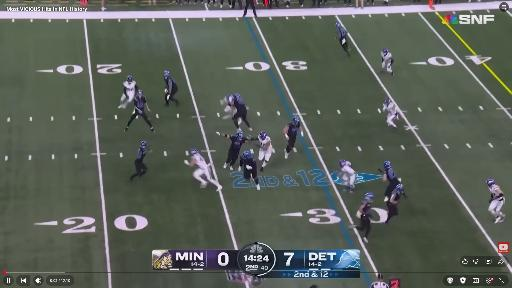Helmet: (365, 191, 375, 203), (258, 131, 268, 140), (487, 179, 496, 187), (384, 160, 392, 169), (396, 184, 405, 192), (243, 152, 251, 161), (237, 132, 244, 142), (291, 117, 299, 125), (385, 98, 392, 107), (339, 159, 346, 168), (141, 141, 148, 149), (138, 90, 145, 97), (127, 76, 133, 84), (383, 48, 389, 56), (165, 71, 171, 78), (335, 21, 341, 27), (191, 150, 198, 155), (234, 94, 242, 98)
Jersey: (340, 162, 356, 186), (258, 135, 272, 161), (230, 135, 247, 151), (489, 184, 503, 201), (240, 157, 257, 171), (192, 154, 207, 169), (386, 168, 399, 184), (233, 94, 246, 110), (134, 95, 146, 111), (124, 81, 136, 97), (258, 136, 271, 150), (383, 102, 397, 115), (288, 122, 300, 137), (342, 162, 355, 175), (362, 200, 371, 218), (165, 76, 175, 91), (136, 148, 146, 162), (390, 189, 401, 201), (381, 52, 392, 63), (337, 28, 346, 39)
Player: (184, 149, 221, 190), (125, 90, 154, 132), (217, 132, 249, 170), (350, 193, 373, 242), (229, 94, 252, 131), (283, 117, 303, 158), (239, 151, 260, 190), (487, 179, 505, 223), (385, 184, 404, 224), (383, 161, 400, 201), (130, 141, 147, 180), (119, 76, 138, 108), (339, 160, 356, 193), (258, 132, 272, 171), (164, 71, 178, 106), (383, 98, 398, 130), (336, 22, 350, 56), (221, 96, 236, 119), (381, 48, 393, 75)
